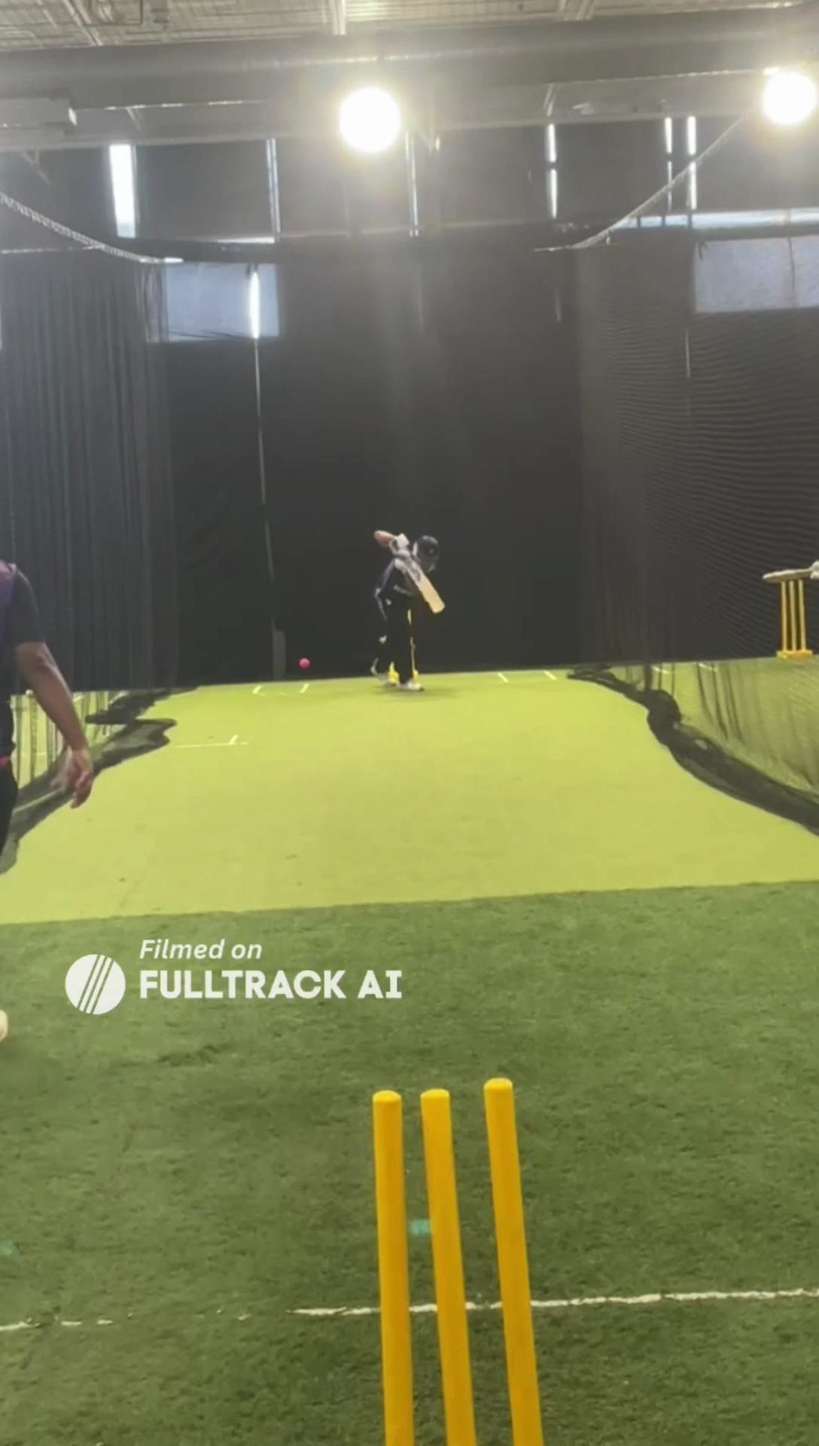ball: (297, 658, 312, 670)
